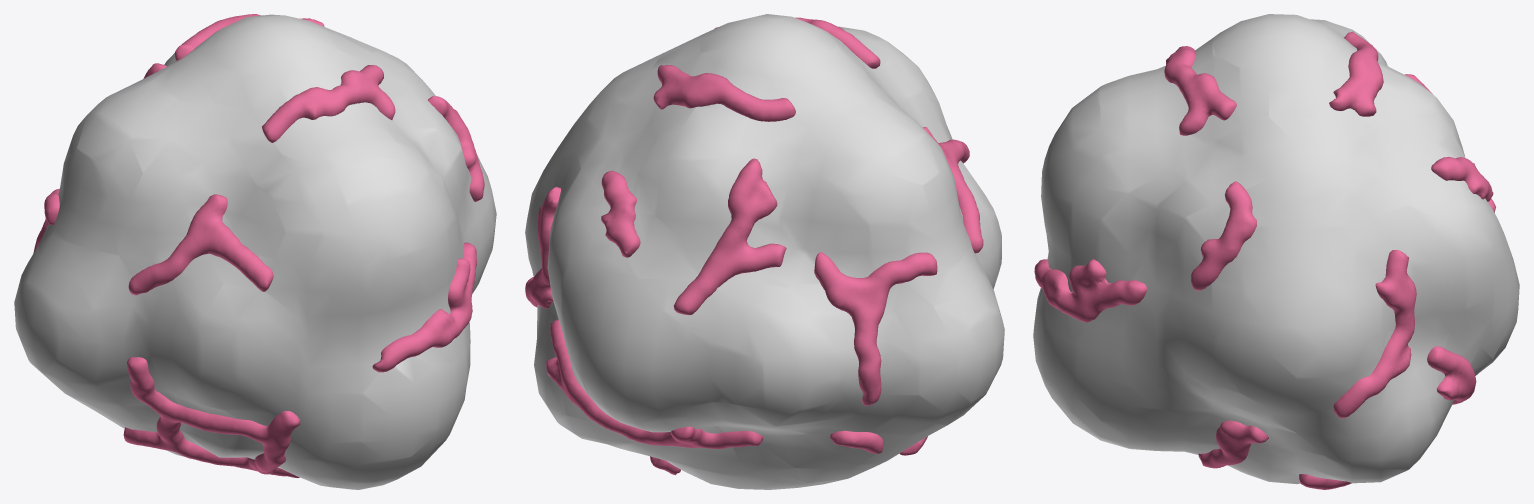
Rendered from bioplasm.glb.
3 renders of one model, left to right at view 1: azimuth 30°, elevation 25°; view 2: azimuth 150°, elevation 25°; view 3: azimuth 270°, elevation 25°, orthographic. The views are drawn at different scales.
Visible parts, largest first — view 1: Mball.019; view 2: Mball.019; view 3: Mball.019.
Part boxes in pixels (x1,y1,x2,y2): Mball.019: (14,14,496,489); Mball.019: (525,14,1004,489); Mball.019: (1033,14,1519,489).
Size of the model in its own units: 2.22 by 2.1 by 2.08.
